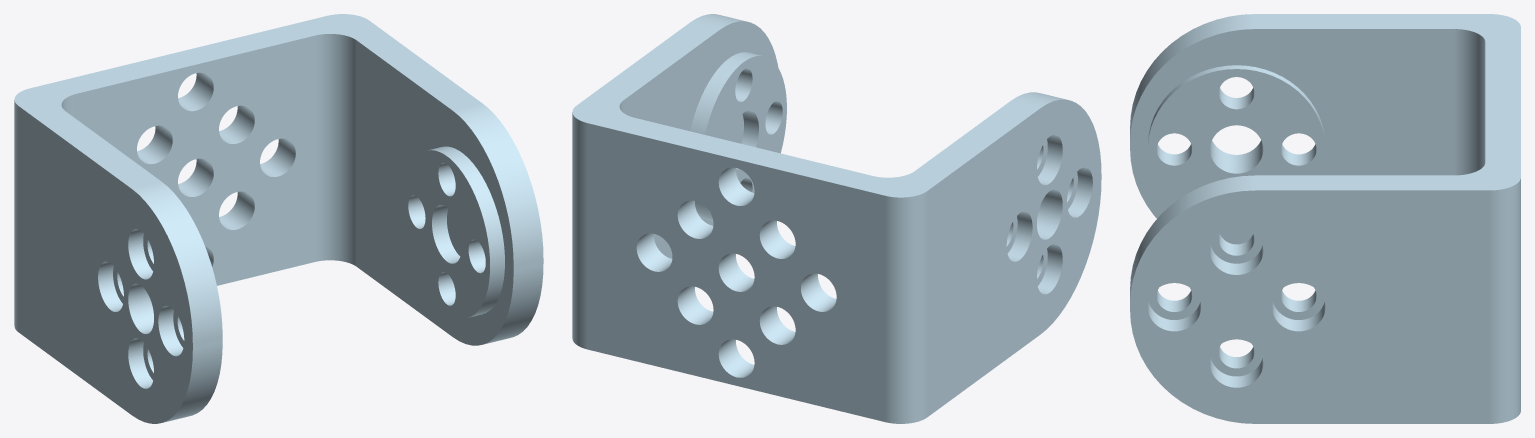
The picture shows the model from 3 angles, left to right: view 1: azimuth 30°, elevation 25°; view 2: azimuth 150°, elevation 25°; view 3: azimuth 270°, elevation 25°; orthographic projection. The views are drawn at different scales.
Visible parts, largest first — view 1: mesh226, mesh241, mesh214, mesh220, mesh215, mesh196, mesh212, mesh222, mesh197, mesh221, mesh211, mesh219 (+12 smaller); view 2: mesh242, mesh226, mesh220, mesh219, mesh214, mesh196, mesh216, mesh197, mesh227, mesh243, mesh250, mesh245 (+11 smaller); view 3: mesh210, mesh224, mesh220, mesh237, mesh216, mesh218, mesh222, mesh212, mesh227, mesh225, mesh208, mesh202 (+13 smaller).
Boxes of the visible parts, x1,y1,x2,y2 form: mesh226: [18, 106, 192, 423]; mesh241: [76, 35, 314, 285]; mesh214: [356, 40, 513, 345]; mesh220: [14, 14, 482, 188]; mesh215: [315, 34, 356, 266]; mesh196: [404, 150, 489, 318]; mesh212: [453, 103, 543, 265]; mesh222: [132, 181, 222, 343]; mesh197: [427, 146, 504, 317]; mesh221: [163, 342, 222, 422]; mesh211: [484, 264, 543, 344]; mesh219: [14, 100, 18, 331]; mesh242: [587, 123, 885, 422]; mesh226: [927, 99, 1101, 416]; mesh220: [572, 22, 1040, 197]; mesh219: [885, 191, 927, 423]; mesh214: [623, 21, 778, 258]; mesh196: [705, 55, 786, 213]; mesh216: [572, 112, 587, 349]; mesh197: [690, 52, 762, 220]; mesh227: [1037, 189, 1062, 239]; mesh243: [677, 286, 713, 324]; mesh250: [718, 253, 754, 291]; mesh245: [636, 233, 672, 271]; mesh210: [1130, 190, 1489, 423]; mesh224: [1130, 29, 1453, 244]; mesh220: [1255, 14, 1520, 190]; mesh237: [1148, 69, 1325, 229]; mesh216: [1489, 178, 1520, 423]; mesh218: [1454, 29, 1485, 175]; mesh222: [1130, 14, 1255, 140]; mesh212: [1130, 175, 1255, 301]; mesh227: [1210, 140, 1263, 173]; mesh225: [1148, 65, 1325, 142]; mesh208: [1211, 231, 1262, 263]; mesh202: [1211, 344, 1262, 376].
Bounding box in the file's own units: 0.047 × 0.029 × 0.044.
